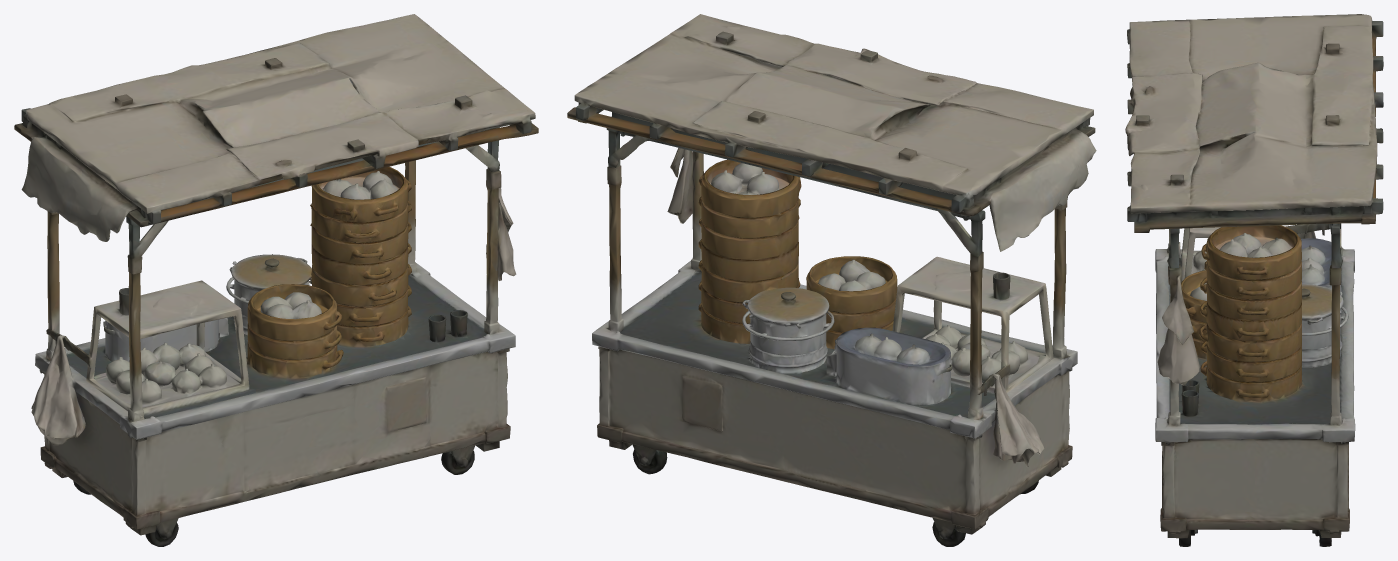
File: tripo_convert_5fdcb8c5-92cb-48f8-b0f2-6b6233043d90.fbx
3 views of the same model, side by side, from view 1: azimuth 30°, elevation 25°; view 2: azimuth 150°, elevation 25°; view 3: azimuth 270°, elevation 25° (orthographic). The views are drawn at different scales.
Parts seen in each view (by area): view 1: tripo_node_5fdcb8c5; view 2: tripo_node_5fdcb8c5; view 3: tripo_node_5fdcb8c5.
Part boxes in pixels (left/top/right/bottom): tripo_node_5fdcb8c5: left=14, top=14, right=538, bottom=546; tripo_node_5fdcb8c5: left=567, top=14, right=1096, bottom=546; tripo_node_5fdcb8c5: left=1125, top=14, right=1383, bottom=546.
Size of the model in its own units: 1 by 0.8751 by 0.5394.
Materials: 1 (1 with a texture image).
